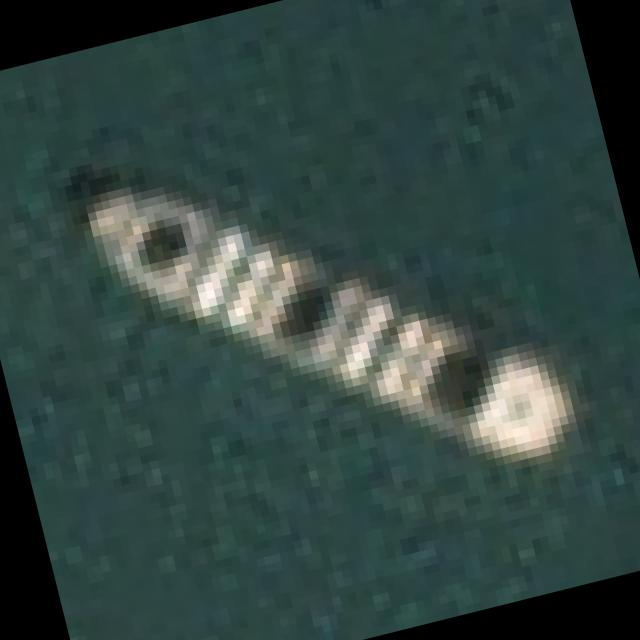ship: (33, 42, 608, 598)
